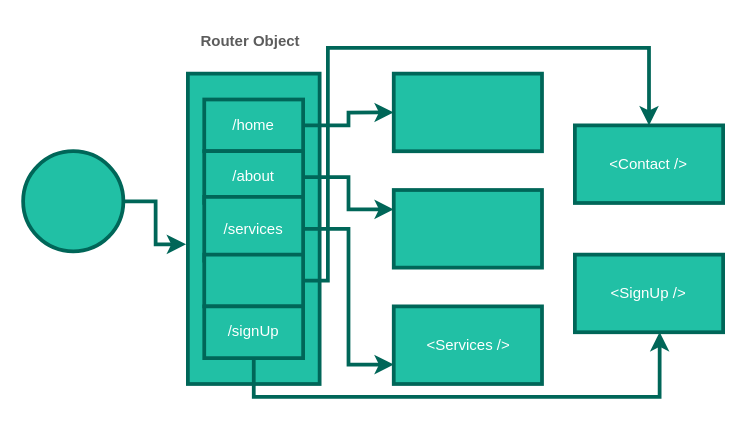
This 746x430 diagram has some shape labels left out. The shapes that lost their labels are listed below. From the top down, each one's centre as x and y in pixels, then its label:
[467,111]: <Home />
[73,201]: Iindex.js
[467,228]: <About />
[253,280]: /contact
